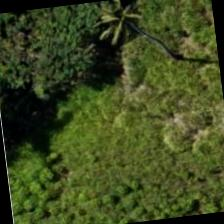Kelapa_Sawit: (123, 1, 222, 101)
